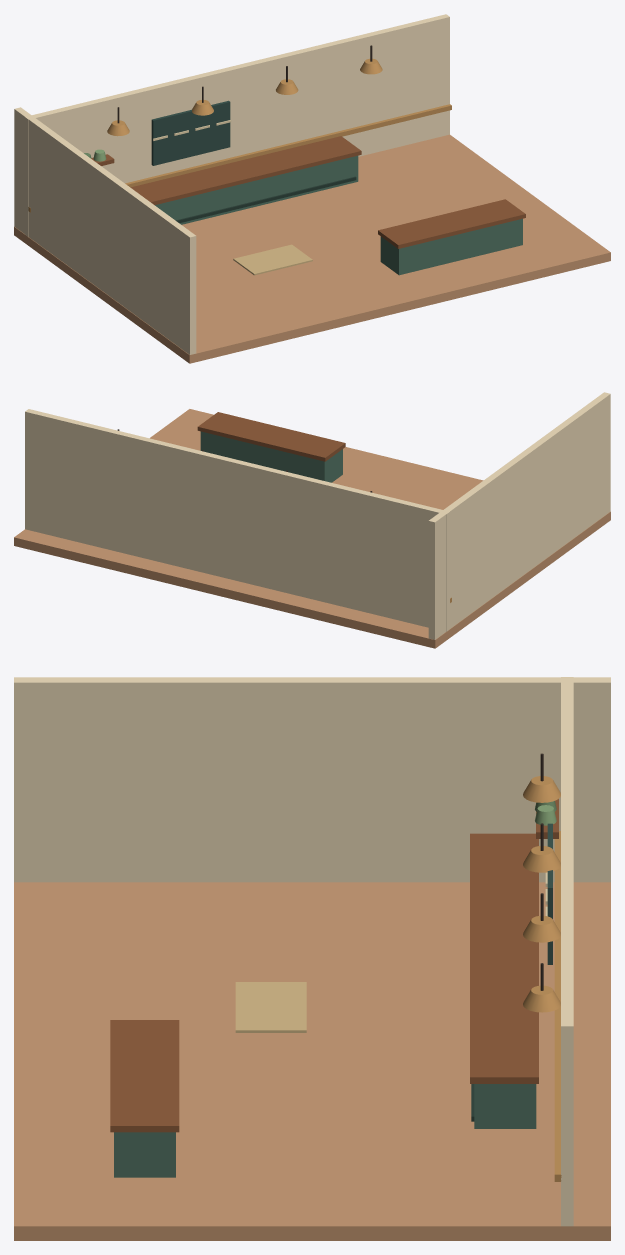
File: cafe-shell-stage-13.glb
3 renders of one model, top to bottom at view 1: azimuth 30°, elevation 25°; view 2: azimuth 150°, elevation 25°; view 3: azimuth 270°, elevation 25°, orthographic. The views are drawn at different scales.
Parts seen in each view (by area): view 1: ExpandedFloor, BackWall, SideWall, StraightWalnutTop, StraightMainCounter, ServeCounter, MenuBoard, ServeWalnutTop, WallTrim, CafeRug, BackCounterKickboard; view 2: BackWall, SideWall, ExpandedFloor, ServeWalnutTop, ServeCounter; view 3: ExpandedFloor, SideWall, StraightWalnutTop, ServeWalnutTop, BackWall, CafeRug, PendantShade (×4), ServeCounter, StraightMainCounter, WallTrim.
Part boxes in pixels (x1,y1,x2,y2): ExpandedFloor: (14, 134, 610, 363); BackWall: (25, 14, 449, 236); SideWall: (14, 107, 196, 354); StraightWalnutTop: (130, 136, 361, 205); StraightMainCounter: (155, 155, 358, 224); ServeCounter: (380, 218, 522, 275); MenuBoard: (151, 100, 230, 165); ServeWalnutTop: (378, 199, 525, 248); WallTrim: (28, 104, 451, 212); CafeRug: (233, 244, 312, 275); BackCounterKickboard: (175, 176, 356, 223); BackWall: (25, 409, 449, 631); SideWall: (428, 392, 610, 639); ExpandedFloor: (14, 409, 610, 648); ServeWalnutTop: (197, 412, 345, 461); ServeCounter: (200, 431, 342, 482); ExpandedFloor: (14, 882, 610, 1240); SideWall: (14, 677, 610, 882); StraightWalnutTop: (470, 833, 538, 1083); ServeWalnutTop: (110, 1020, 179, 1132); BackWall: (561, 677, 573, 1226); CafeRug: (235, 982, 306, 1032); PendantShade (×4): (523, 776, 560, 1012); ServeCounter: (114, 1132, 175, 1177); StraightMainCounter: (474, 1084, 536, 1128); WallTrim: (554, 831, 561, 1181).
Bounding box in the file's own units: 18 × 5.16 × 13.
